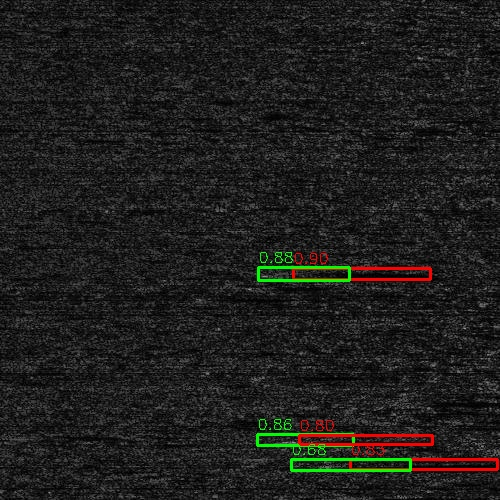rock: (291, 460, 406, 469), (253, 267, 336, 278), (392, 397, 445, 408), (285, 494, 368, 500), (263, 436, 326, 443), (247, 372, 310, 377)
shadow: (349, 460, 485, 469), (295, 267, 393, 278), (419, 397, 500, 408), (295, 436, 398, 443), (327, 494, 434, 500), (279, 372, 328, 377)
